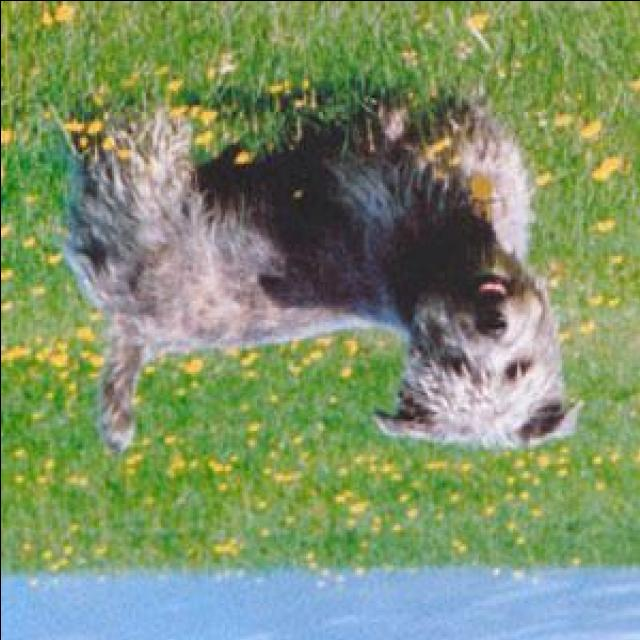dandie_dinmont: (49, 84, 582, 453)
